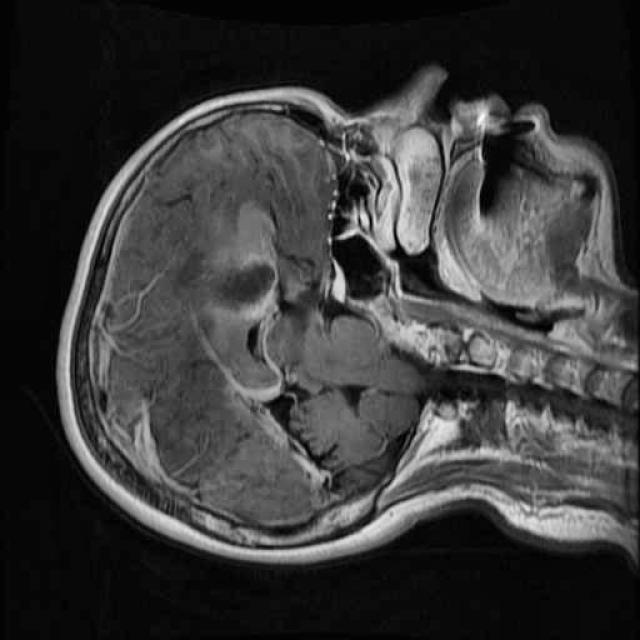Non-Tumor: (193, 239, 285, 332)
